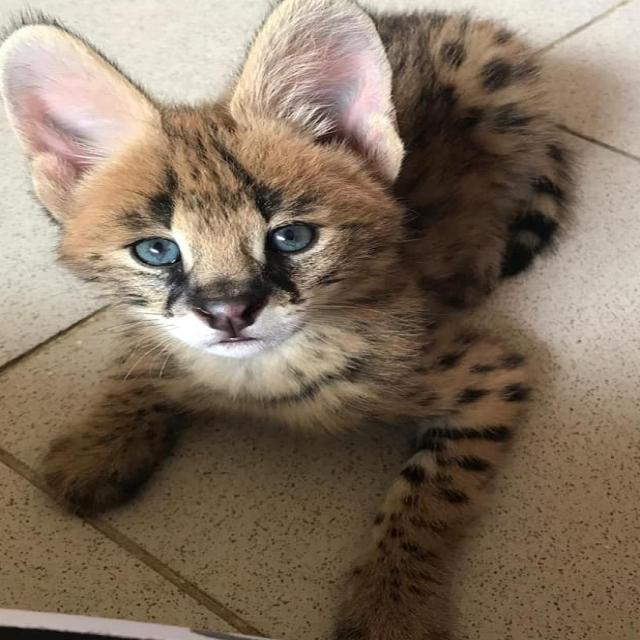Savannah: (0, 0, 582, 640)
